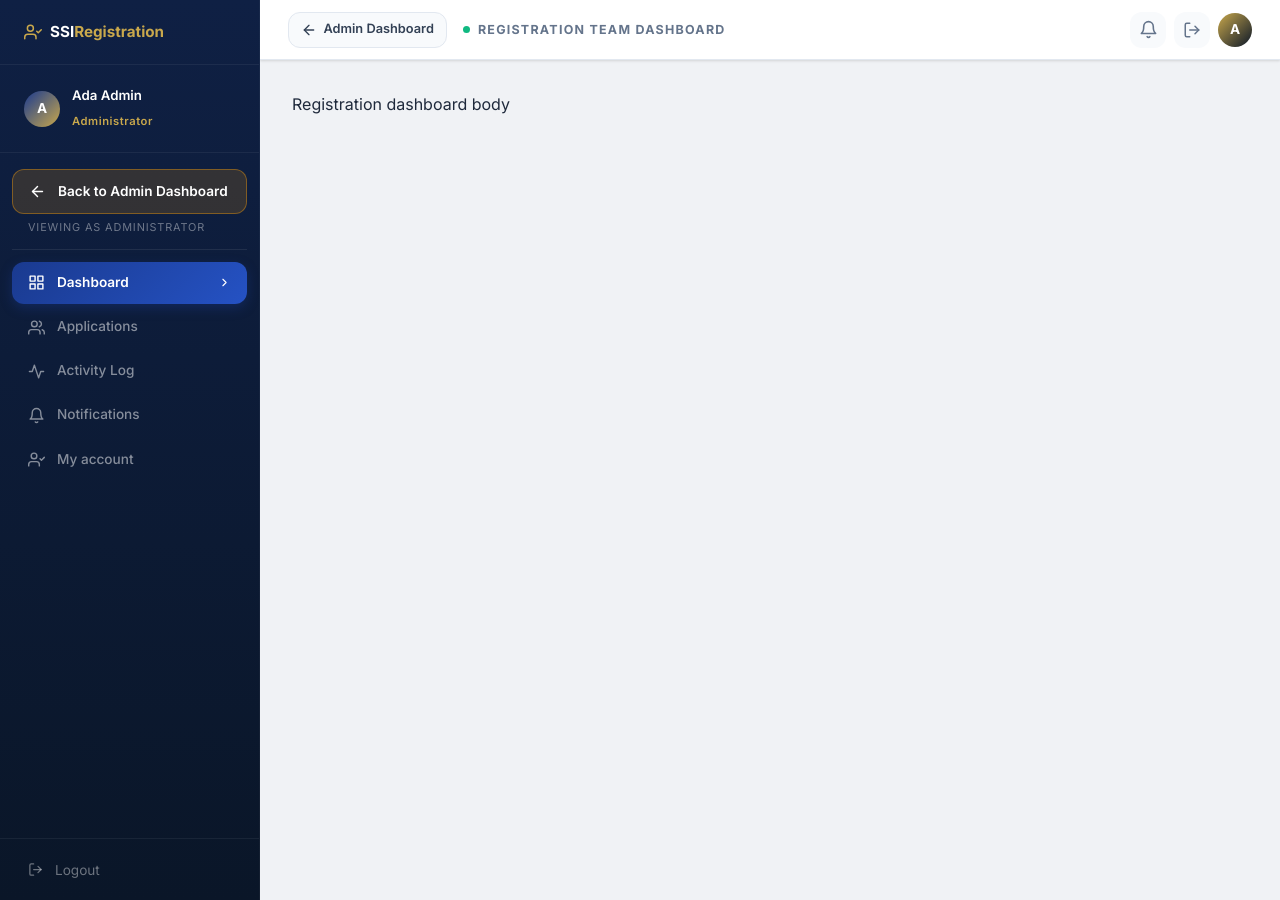
Test case: RegistrationLayout — Admin returning to the main Admin dashboard › navigates to the Admin dashboard when the top-bar link is used (the one visible on a phone with the drawer closed)
The image size is (1280, 900).
Click the link with aria-label "Back to Admin Dashboard". click: (367, 30)
box: [288,12,447,48]
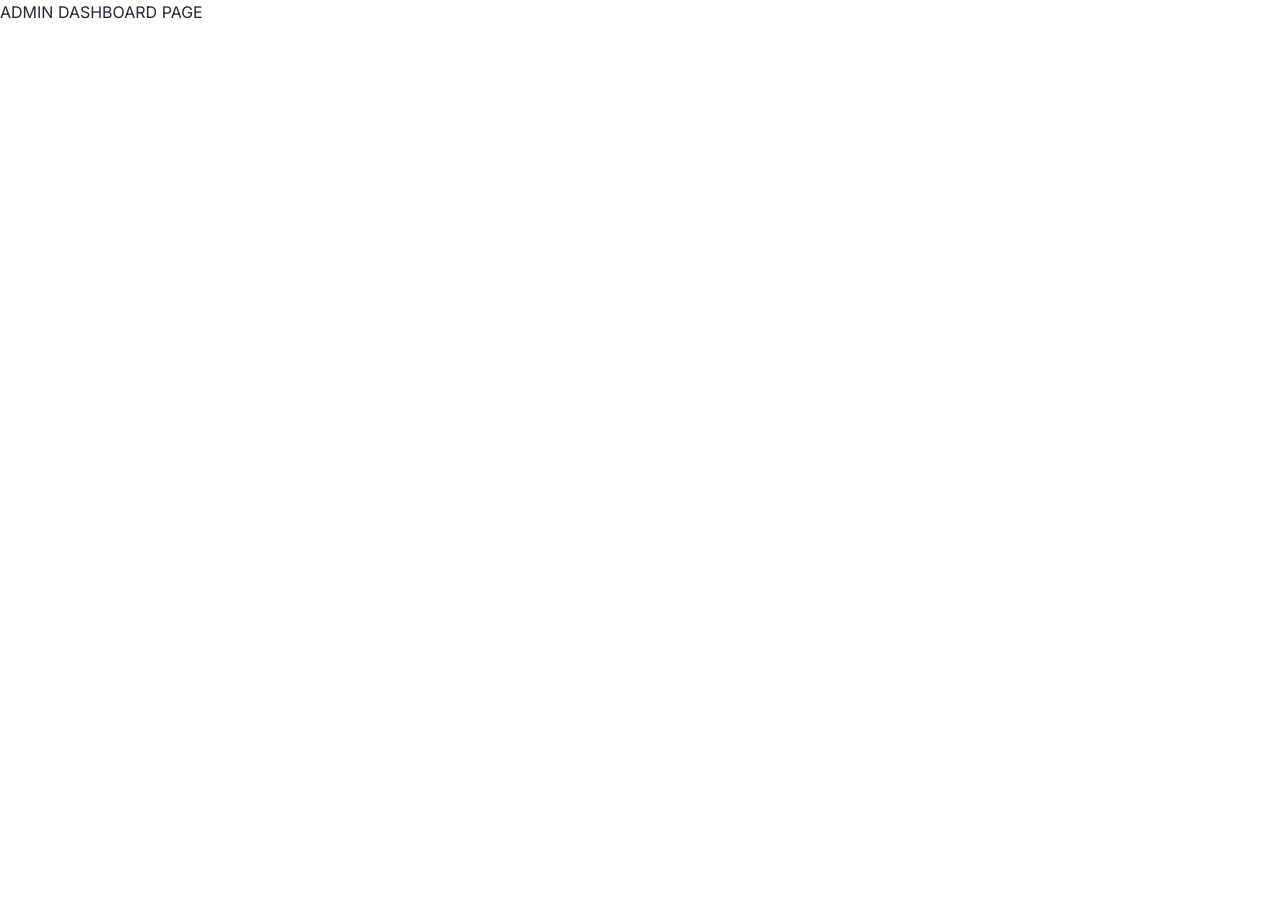
Expected: the text "ADMIN DASHBOARD PAGE" is shown, [0,2,203,22]
